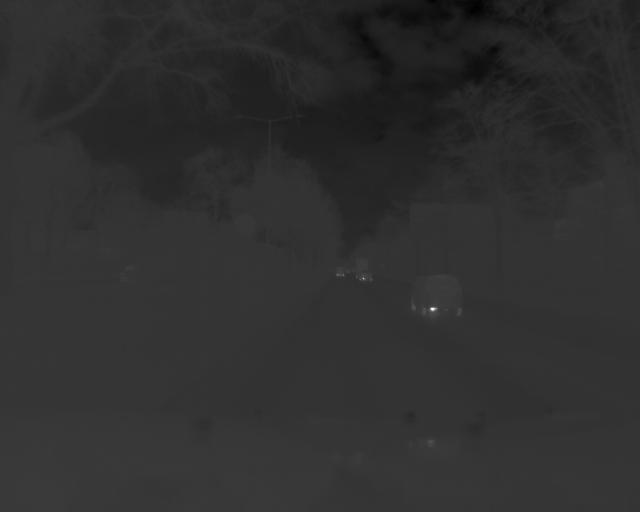car: (408, 273, 465, 323)
